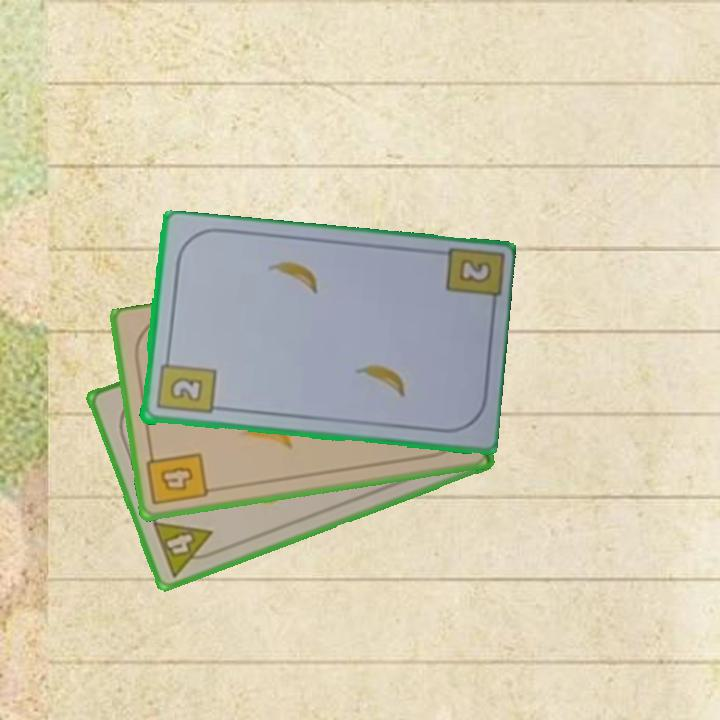2b: (153, 352, 217, 418), (455, 255, 495, 286)
4b: (143, 446, 211, 508)
4p: (148, 517, 222, 580)
